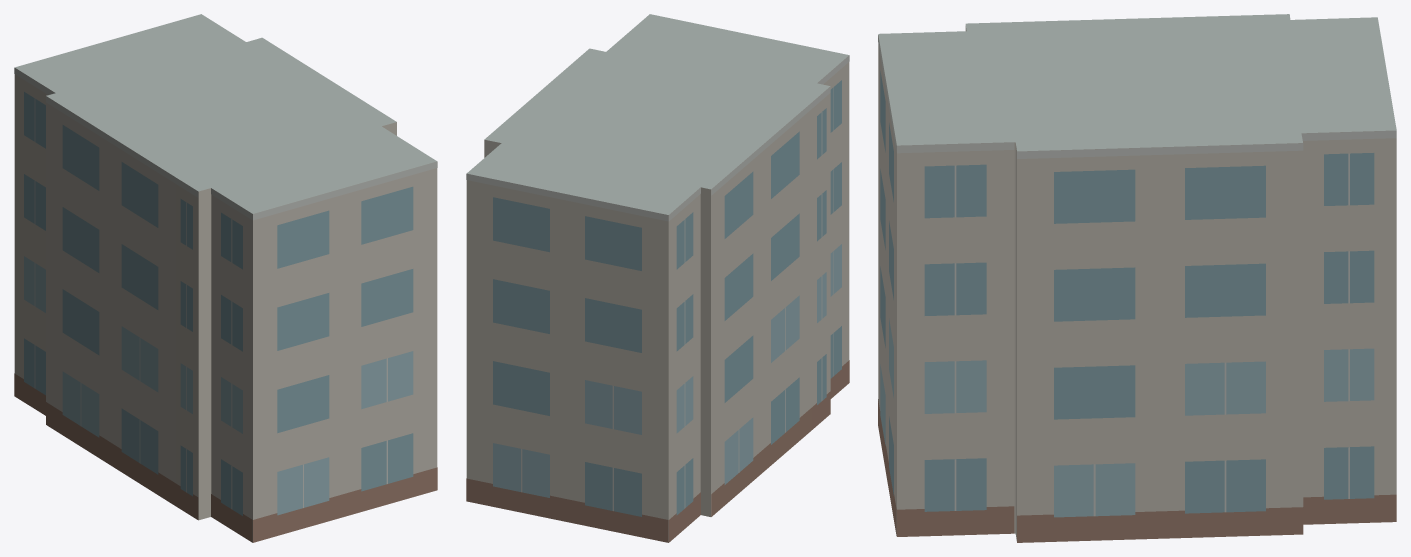
Rendered from survey-upis-32775463.glb.
3 views of the same model, side by side, from view 1: azimuth 30°, elevation 25°; view 2: azimuth 150°, elevation 25°; view 3: azimuth 270°, elevation 25° (orthographic). The views are drawn at different scales.
Visible parts, largest first — view 1: survey-upis-32775463.tmp; view 2: survey-upis-32775463.tmp; view 3: survey-upis-32775463.tmp.
Boxes of the visible parts, x1,y1,x2,y2 form: survey-upis-32775463.tmp: (14,14,437,542); survey-upis-32775463.tmp: (466,14,849,542); survey-upis-32775463.tmp: (878,14,1396,542).
Size of the model in its own units: 9.34 by 12.4 by 14.9.
